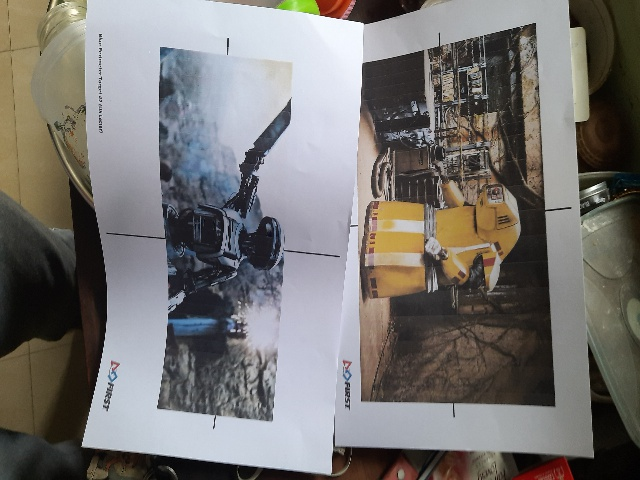bpt2: (104, 10, 312, 465)
rpt2: (343, 44, 587, 438)
